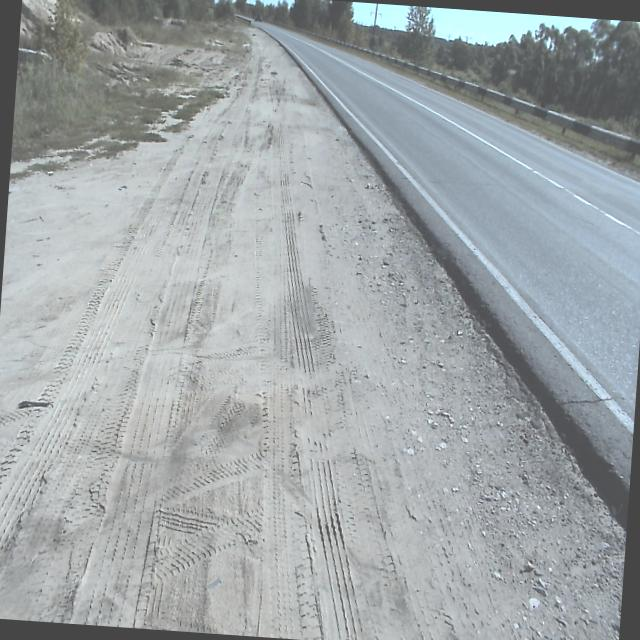road: (251, 18, 640, 487)
